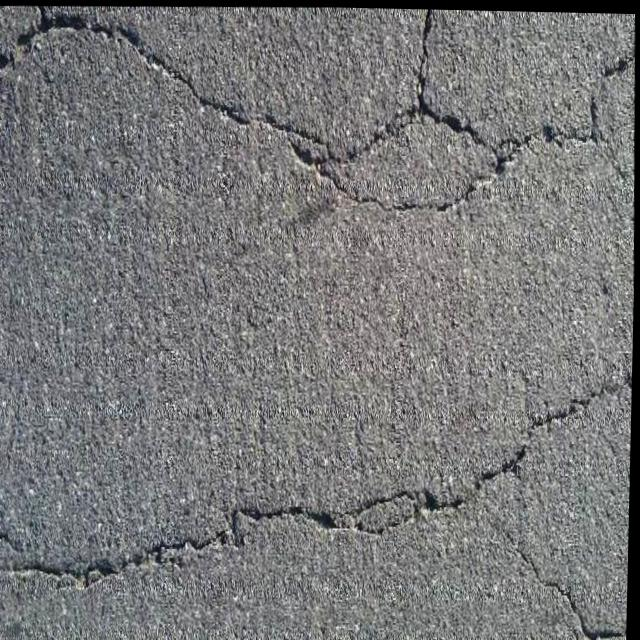Crack: (0, 347, 634, 640), (0, 0, 638, 237)
